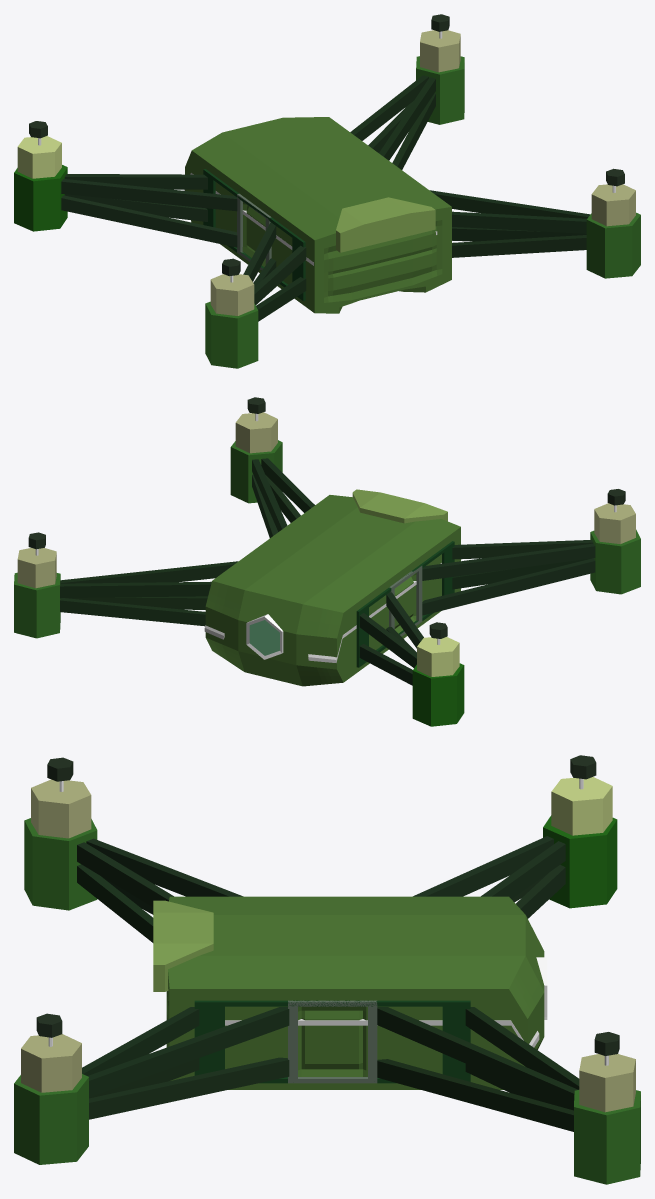
Rendered from body_03_green.710dd1fb.glb.
The picture shows the model from 3 angles, top to bottom: view 1: azimuth 30°, elevation 25°; view 2: azimuth 150°, elevation 25°; view 3: azimuth 270°, elevation 25°; orthographic projection. The views are drawn at different scales.
Parts seen in each view (by area): view 1: Cube.001_2.001, Cubo_3.001, Cilindro.004_25.001, Cilindro.003_23.001, Cubo.003_9.001, Cubo.004_8.001, Cilindro.002_22.001, Cubo.008_10.001, Cubo.007_11.001, Cilindro.005_24.001, Cubo.005_13.001, Cubo.001_6.001 (+14 smaller); view 2: Cube.001_2.001, Cilindro.002_22.001, Cubo.010_20.001, Cubo.009_21.001, Cilindro.003_23.001, Cilindro.005_24.001, Cubo.013_17.001, Cubo.014_16.001, Cubo_3.001, Cubo.016_14.001, Cilindro.004_25.001, Cilindro.006_26.001 (+18 smaller); view 3: Cube.001_2.001, Cilindro.004_25.001, Cilindro.005_24.001, Cubo.016_14.001, Cubo.005_13.001, Cilindro.003_23.001, Cilindro.002_22.001, Cubo.006_12.001, Cubo.015_15.001, Cubo.018_47.001, Cubo_3.001, Cilindro.017_41.001 (+15 smaller).
Part boxes in pixels (x1=…): Cube.001_2.001: x1=185, y1=117, x2=451, y2=313; Cubo_3.001: x1=336, y1=197, x2=435, y2=252; Cilindro.004_25.001: x1=586, y1=212, x2=640, y2=278; Cilindro.003_23.001: x1=205, y1=301, x2=258, y2=368; Cubo.003_9.001: x1=61, y1=195, x2=237, y2=247; Cubo.004_8.001: x1=61, y1=179, x2=237, y2=211; Cilindro.002_22.001: x1=14, y1=165, x2=67, y2=231; Cubo.008_10.001: x1=452, y1=211, x2=586, y2=233; Cubo.007_11.001: x1=452, y1=235, x2=586, y2=257; Cilindro.005_24.001: x1=416, y1=56, x2=464, y2=124; Cubo.005_13.001: x1=430, y1=190, x2=590, y2=218; Cubo.001_6.001: x1=64, y1=174, x2=207, y2=189; Cube.001_2.001: x1=205, y1=495, x2=460, y2=686; Cilindro.002_22.001: x1=412, y1=663, x2=464, y2=726; Cubo.010_20.001: x1=422, y1=558, x2=595, y2=615; Cubo.009_21.001: x1=422, y1=543, x2=595, y2=580; Cilindro.003_23.001: x1=590, y1=529, x2=640, y2=594; Cilindro.005_24.001: x1=14, y1=572, x2=60, y2=638; Cubo.013_17.001: x1=60, y1=581, x2=211, y2=598; Cubo.014_16.001: x1=60, y1=598, x2=205, y2=626; Cubo_3.001: x1=352, y1=489, x2=447, y2=523; Cubo.016_14.001: x1=60, y1=561, x2=238, y2=583; Cilindro.004_25.001: x1=230, y1=440, x2=282, y2=503; Cilindro.006_26.001: x1=235, y1=412, x2=277, y2=453; Cube.001_2.001: x1=166, y1=896, x2=544, y2=1089; Cilindro.004_25.001: x1=14, y1=1074, x2=88, y2=1164; Cilindro.005_24.001: x1=574, y1=1090, x2=640, y2=1184; Cubo.016_14.001: x1=377, y1=1007, x2=577, y2=1110; Cubo.005_13.001: x1=87, y1=1007, x2=289, y2=1097; Cilindro.003_23.001: x1=24, y1=818, x2=97, y2=910; Cilindro.002_22.001: x1=543, y1=815, x2=617, y2=908; Cubo.006_12.001: x1=89, y1=1057, x2=289, y2=1119; Cubo.015_15.001: x1=377, y1=1059, x2=573, y2=1131; Cubo.018_47.001: x1=194, y1=1000, x2=470, y2=1083; Cubo_3.001: x1=153, y1=900, x2=213, y2=991; Cilindro.017_41.001: x1=551, y1=777, x2=612, y2=835.
Bounding box in the file's own units: 3.2 × 0.7904 × 2.76.
